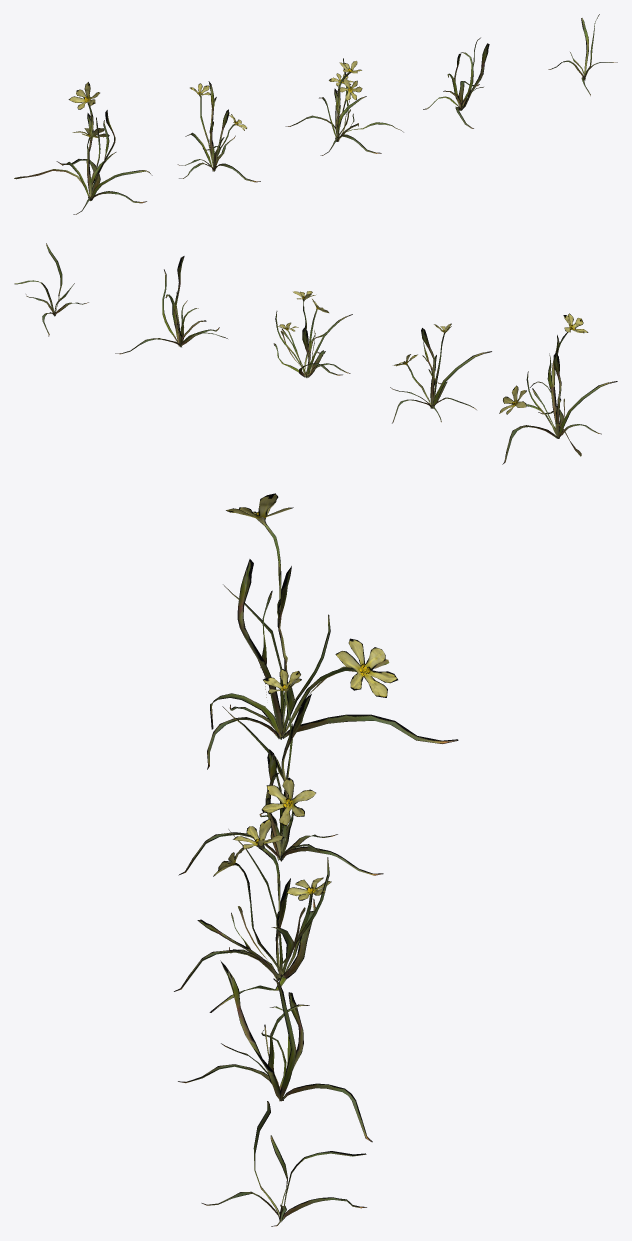
The model's file is flower_empodium_2k.gltf.
The picture shows the model from 3 angles, top to bottom: view 1: azimuth 30°, elevation 25°; view 2: azimuth 150°, elevation 25°; view 3: azimuth 270°, elevation 25°; orthographic projection. The views are drawn at different scales.
Parts seen in each view (by area): view 1: flower_empodium_a_LOD0, flower_empodium_c_LOD0, flower_empodium_b_LOD0, flower_empodium_d_LOD0, flower_empodium_e_LOD0; view 2: flower_empodium_a_LOD0, flower_empodium_c_LOD0, flower_empodium_b_LOD0, flower_empodium_d_LOD0, flower_empodium_e_LOD0; view 3: flower_empodium_a_LOD0, flower_empodium_c_LOD0, flower_empodium_b_LOD0, flower_empodium_d_LOD0, flower_empodium_e_LOD0.
Part boxes in pixels (box(x1,y1,x2,y2)): flower_empodium_a_LOD0: box(14, 82, 152, 214); flower_empodium_c_LOD0: box(285, 58, 403, 155); flower_empodium_b_LOD0: box(177, 81, 260, 182); flower_empodium_d_LOD0: box(423, 37, 489, 128); flower_empodium_e_LOD0: box(548, 14, 617, 95); flower_empodium_a_LOD0: box(499, 313, 617, 464); flower_empodium_c_LOD0: box(273, 291, 352, 377); flower_empodium_b_LOD0: box(390, 323, 491, 423); flower_empodium_d_LOD0: box(115, 256, 227, 354); flower_empodium_e_LOD0: box(14, 243, 88, 336); flower_empodium_a_LOD0: box(207, 493, 458, 769); flower_empodium_c_LOD0: box(174, 818, 331, 1012); flower_empodium_b_LOD0: box(178, 668, 383, 875); flower_empodium_d_LOD0: box(178, 960, 372, 1142); flower_empodium_e_LOD0: box(201, 1101, 366, 1226).
Size of the model in its own units: 1.32 by 0.2684 by 0.2841.
Materials: 1 (1 with a texture image).
